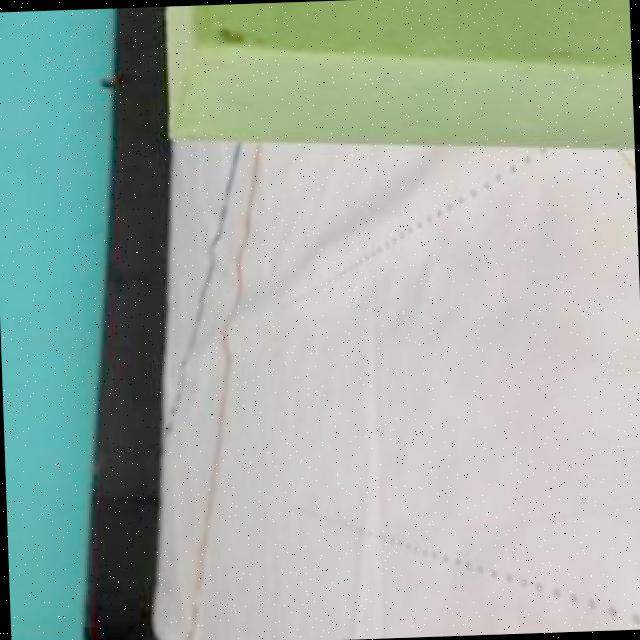greenbox: (161, 0, 634, 165)
